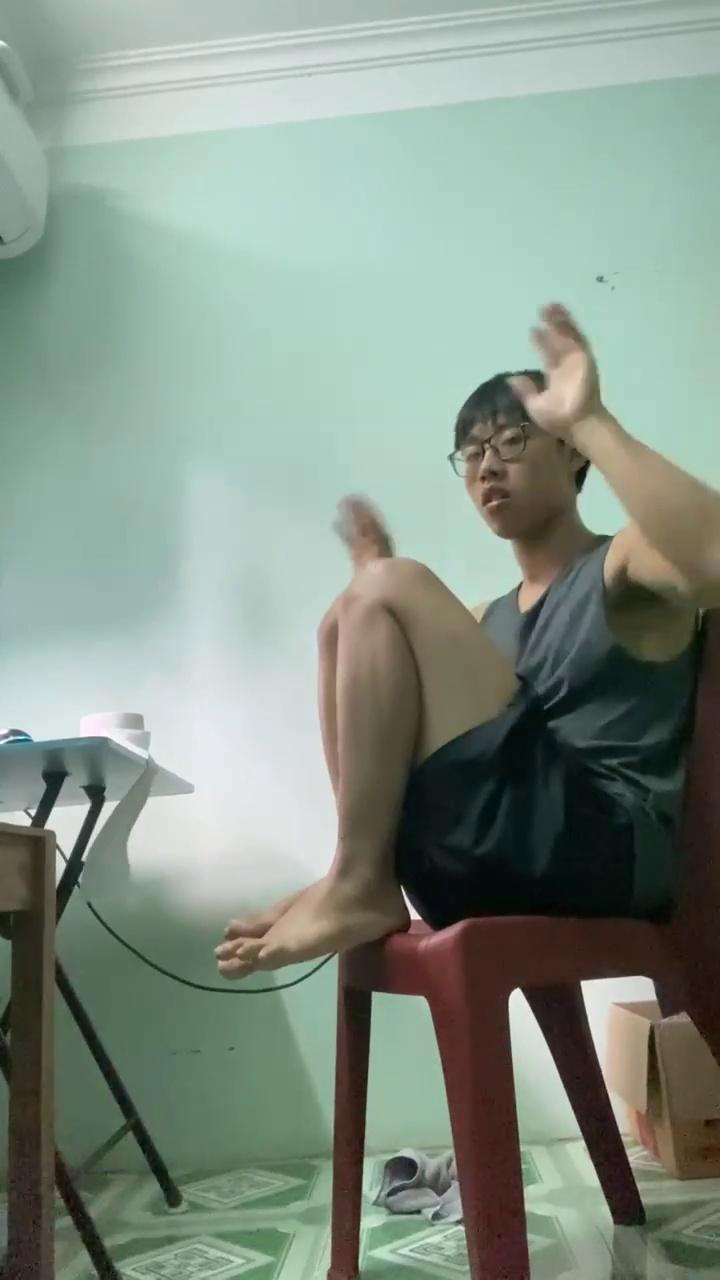BadPosture: (217, 595, 633, 976)
